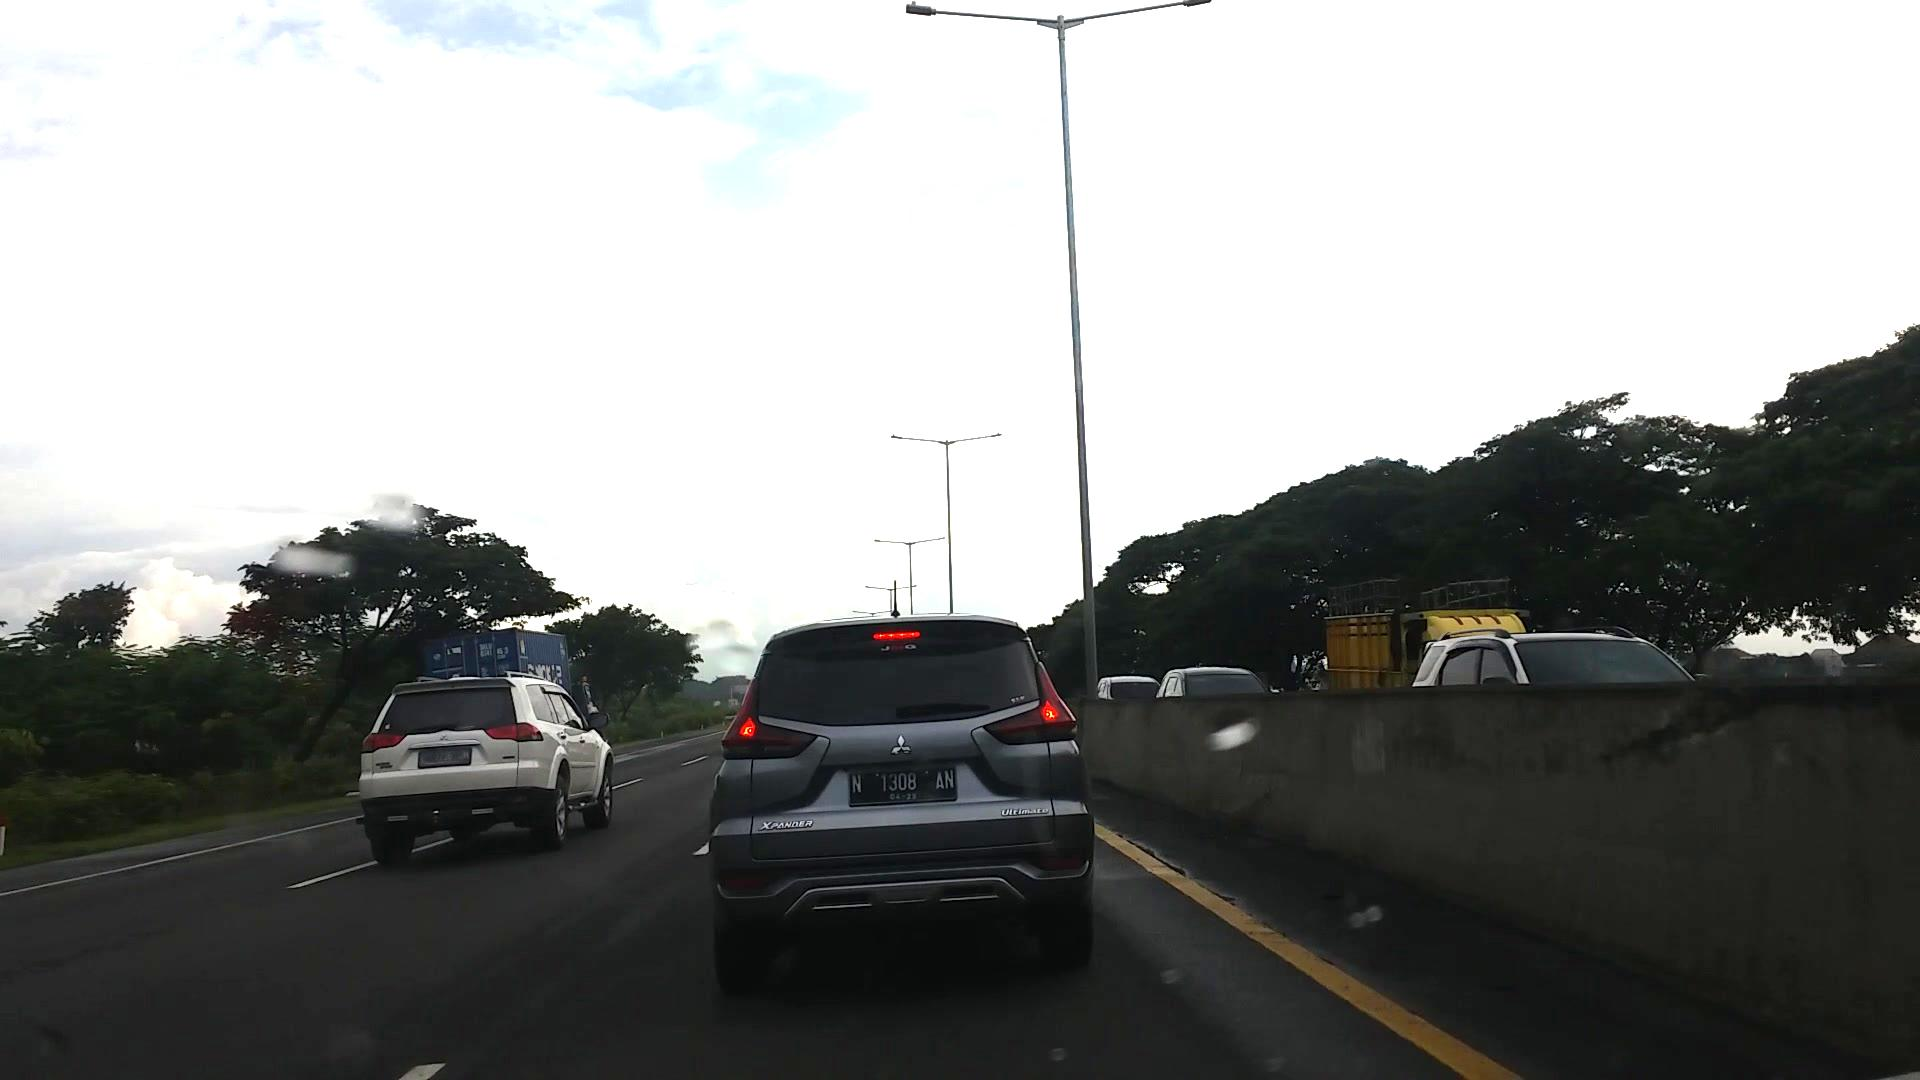plate_positive: (849, 767, 957, 804)
